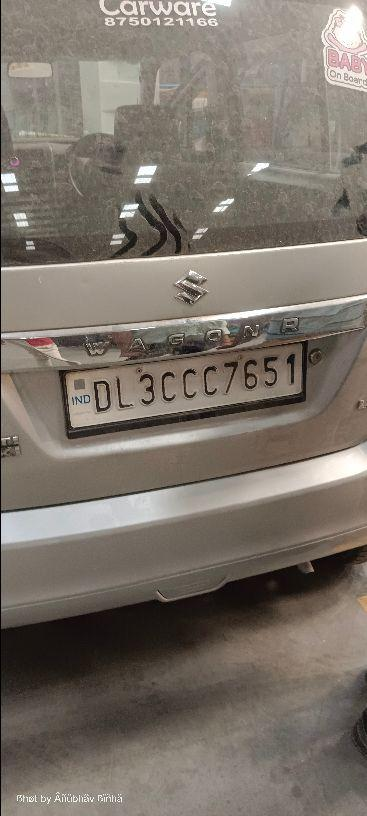license_plate: (59, 338, 308, 438)
